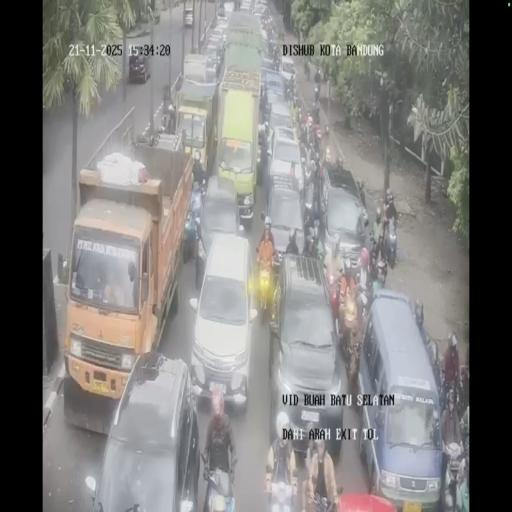car: (356, 290, 441, 504), (90, 354, 199, 511), (267, 254, 343, 452), (196, 173, 244, 277), (320, 169, 368, 270), (262, 182, 306, 268), (265, 101, 296, 144), (128, 50, 150, 84), (203, 42, 224, 77), (280, 54, 296, 90), (260, 53, 276, 75), (253, 0, 267, 17), (216, 4, 229, 20), (239, 0, 253, 12)
motorcycle: (441, 436, 467, 510), (256, 253, 280, 323), (267, 475, 297, 512), (303, 174, 320, 230), (382, 214, 398, 267), (423, 331, 441, 377), (341, 248, 361, 288), (355, 282, 371, 330), (368, 233, 384, 280), (161, 96, 176, 131), (325, 148, 343, 174), (258, 117, 270, 148), (312, 121, 322, 151), (312, 100, 320, 124), (314, 81, 320, 103), (304, 59, 310, 80)
truck: (174, 73, 218, 179), (184, 0, 194, 26)
